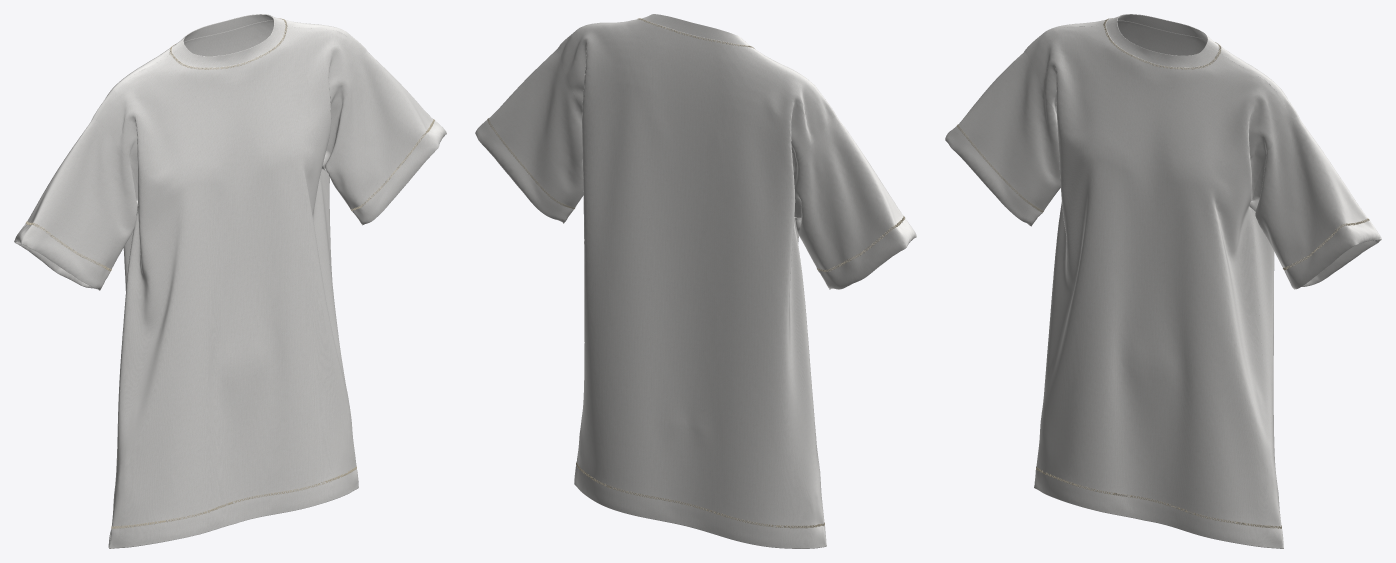
The model's file is tshirt-transformed.glb.
The picture shows the model from 3 angles, left to right: view 1: azimuth 30°, elevation 25°; view 2: azimuth 150°, elevation 25°; view 3: azimuth 330°, elevation 25°; orthographic projection.
Parts seen in each view (by area): view 1: Pattern2D_2949190, StitchMatShape_127574; view 2: Pattern2D_2949190, StitchMatShape_127574; view 3: Pattern2D_2949190, StitchMatShape_127574.
Boxes of the visible parts, box(x1,y1,x2,y2) form: Pattern2D_2949190: box(14, 14, 446, 548); StitchMatShape_127574: box(26, 18, 434, 528); Pattern2D_2949190: box(475, 14, 916, 548); StitchMatShape_127574: box(487, 18, 905, 528); Pattern2D_2949190: box(945, 14, 1381, 548); StitchMatShape_127574: box(957, 18, 1369, 528).
Size of the model in its own units: 2.57 by 2.83 by 0.2834.
2 materials, 1 textured.
